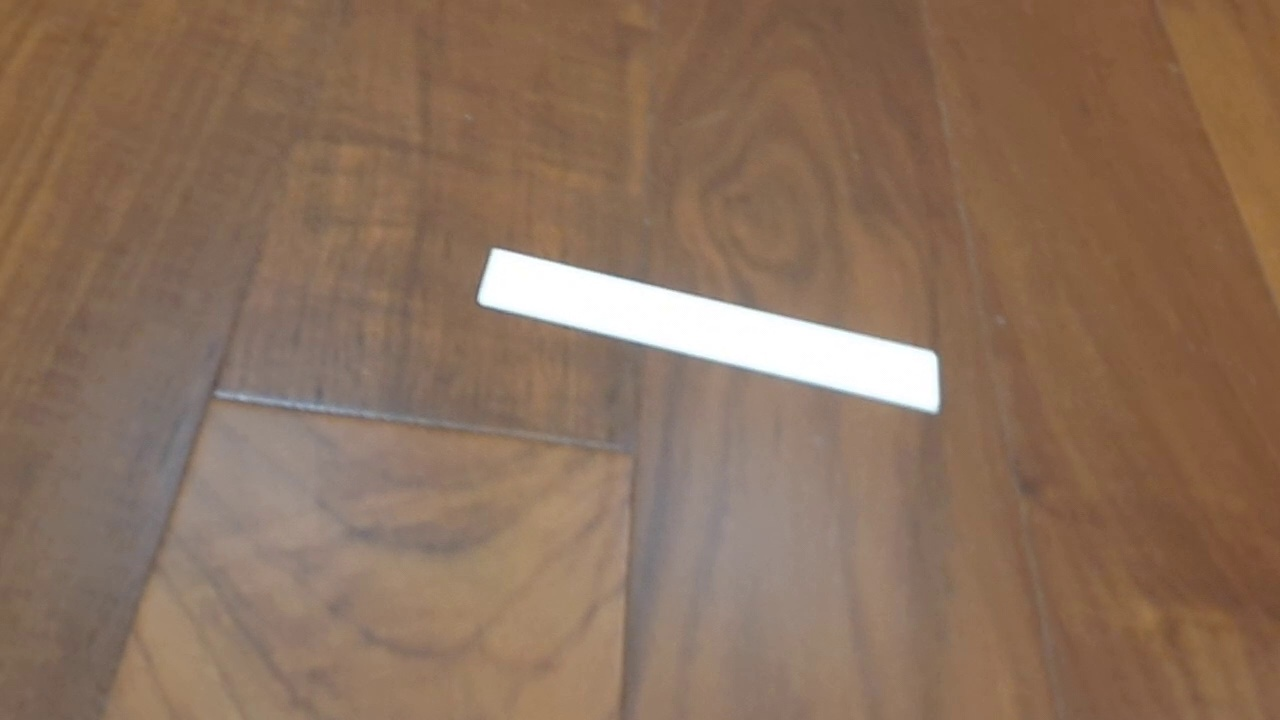ruler: (475, 246, 942, 417)
